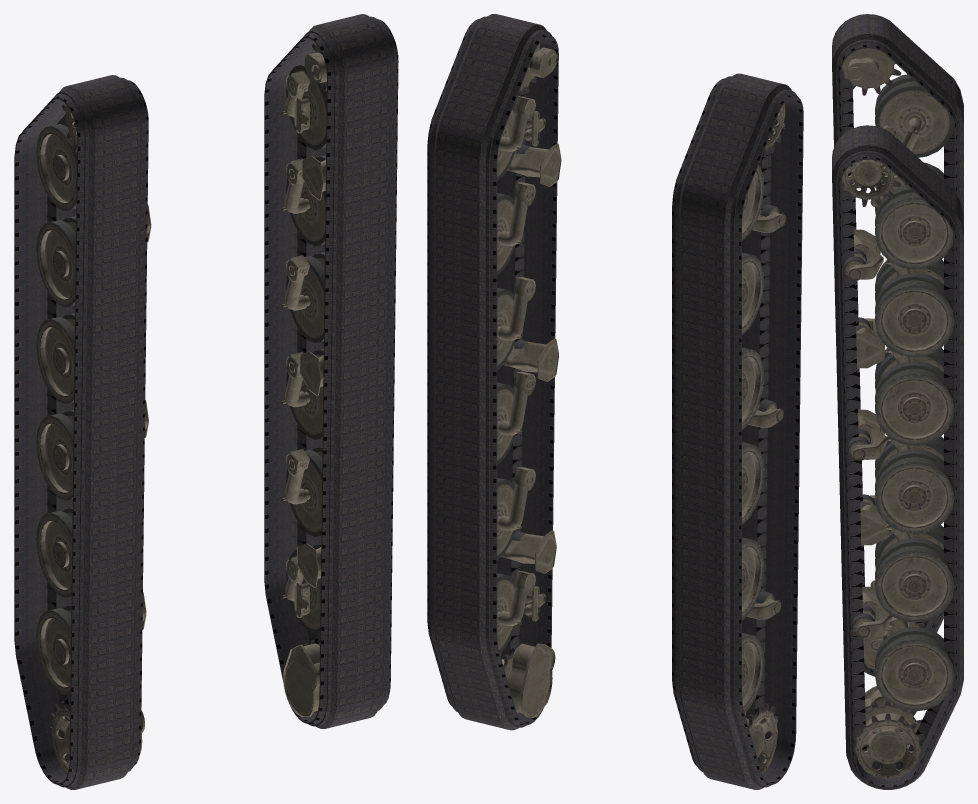
The model's file is Chassis.glb.
3 renders of one model, left to right at view 1: azimuth 30°, elevation 25°; view 2: azimuth 150°, elevation 25°; view 3: azimuth 270°, elevation 25°, orthographic. The views are drawn at different scales.
Visible parts, largest first — view 1: set_3_group_0, set_2_group_0, set_0_group_0, set_1_group_0; view 2: set_3_group_0, set_2_group_0, set_0_group_0, set_1_group_0; view 3: set_0_group_0, set_2_group_0, set_1_group_0, set_3_group_0.
Part boxes in pixels (x1,y1,x2,y2): set_3_group_0: [14, 75, 148, 789]; set_2_group_0: [264, 14, 398, 728]; set_0_group_0: [281, 43, 326, 717]; set_1_group_0: [36, 104, 151, 774]; set_3_group_0: [672, 73, 803, 789]; set_2_group_0: [427, 14, 558, 730]; set_0_group_0: [497, 43, 561, 717]; set_1_group_0: [742, 103, 785, 774]; set_0_group_0: [841, 159, 954, 779]; set_2_group_0: [832, 125, 963, 789]; set_1_group_0: [841, 48, 953, 669]; set_3_group_0: [832, 14, 963, 676].
Bounding box in the file's own units: 3.18 × 6.7 × 1.24.
Materials: 4 (4 with a texture image).
